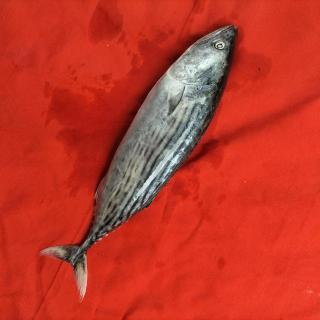Ikan: (43, 21, 248, 295)
